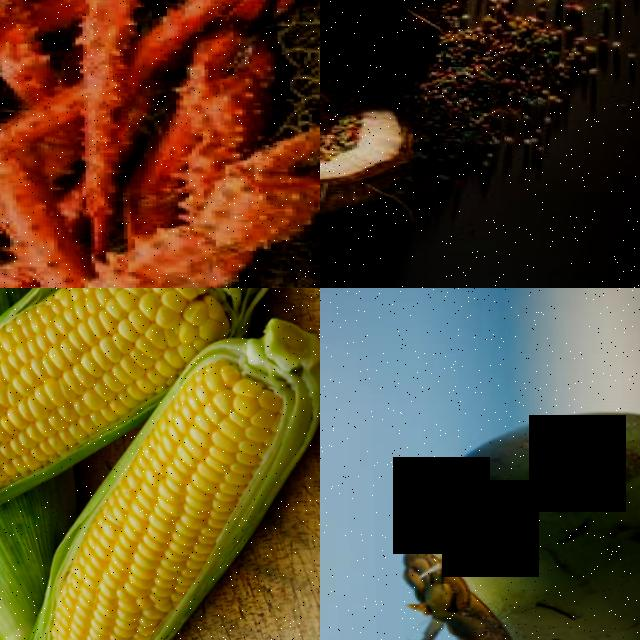coconut: (389, 407, 640, 640), (320, 42, 408, 215)
corn: (128, 365, 284, 577), (4, 288, 218, 416), (46, 530, 178, 640), (0, 359, 93, 513)
crab: (0, 61, 310, 288), (0, 0, 314, 84)
